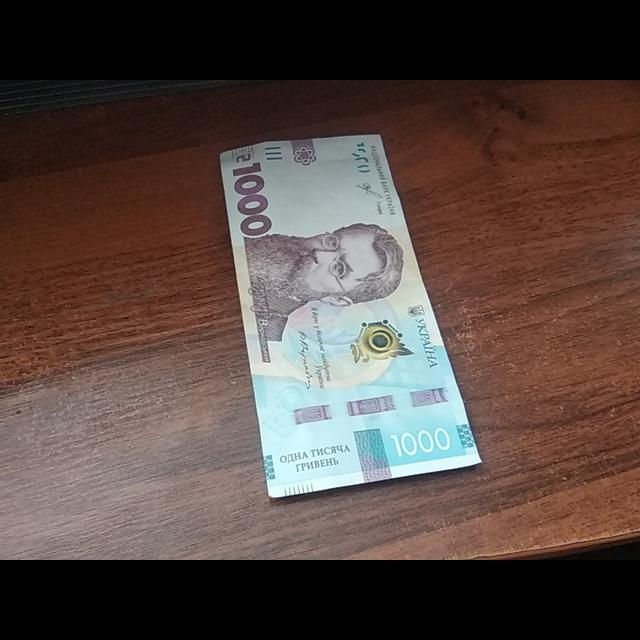1000uah: (219, 134, 482, 500)
